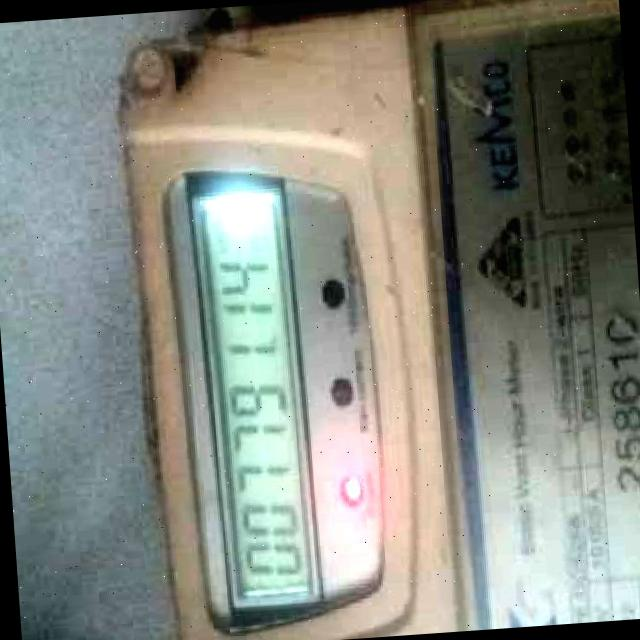LCD: (197, 165, 322, 612)
